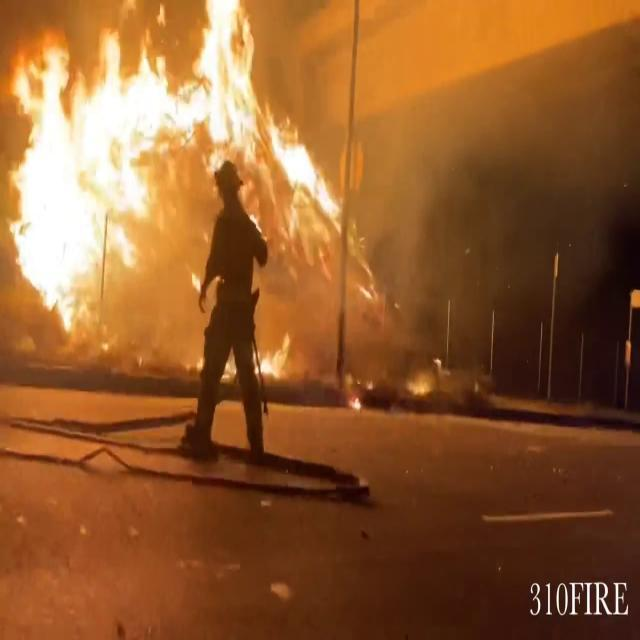Fire: (0, 1, 358, 352)
